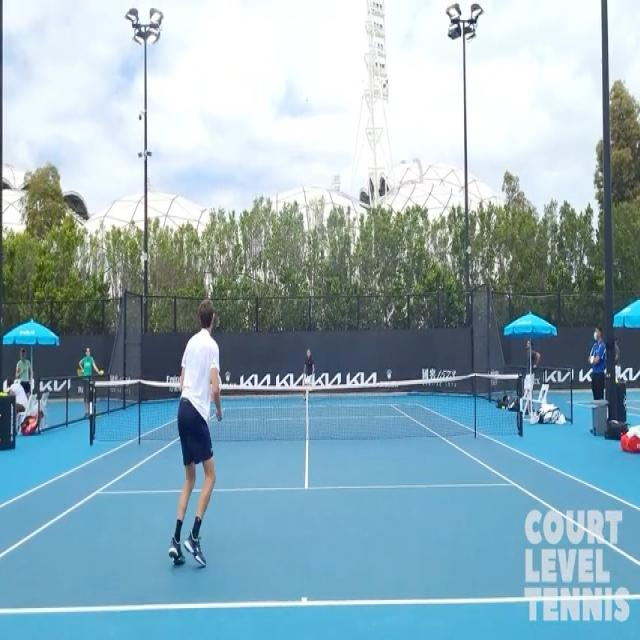ready-position: (160, 303, 242, 596)
